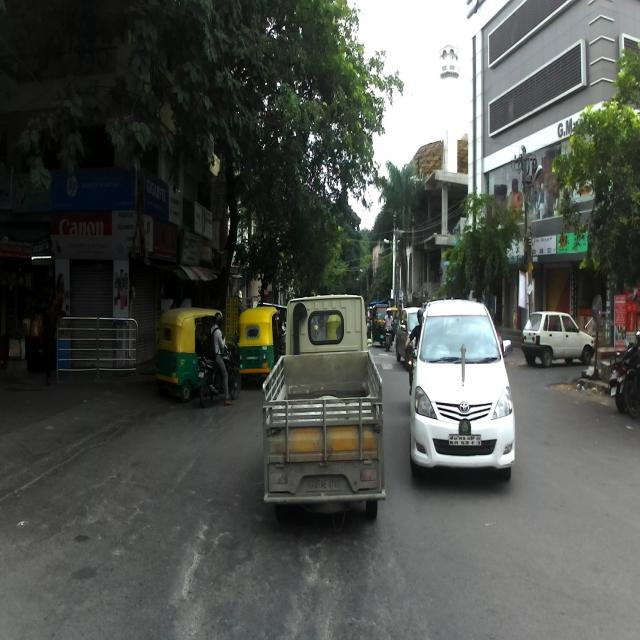autorickshaw: (156, 305, 222, 401)
car: (407, 297, 514, 485), (520, 309, 594, 369)
motorcycle: (194, 342, 241, 406)
truck: (261, 293, 386, 523)
